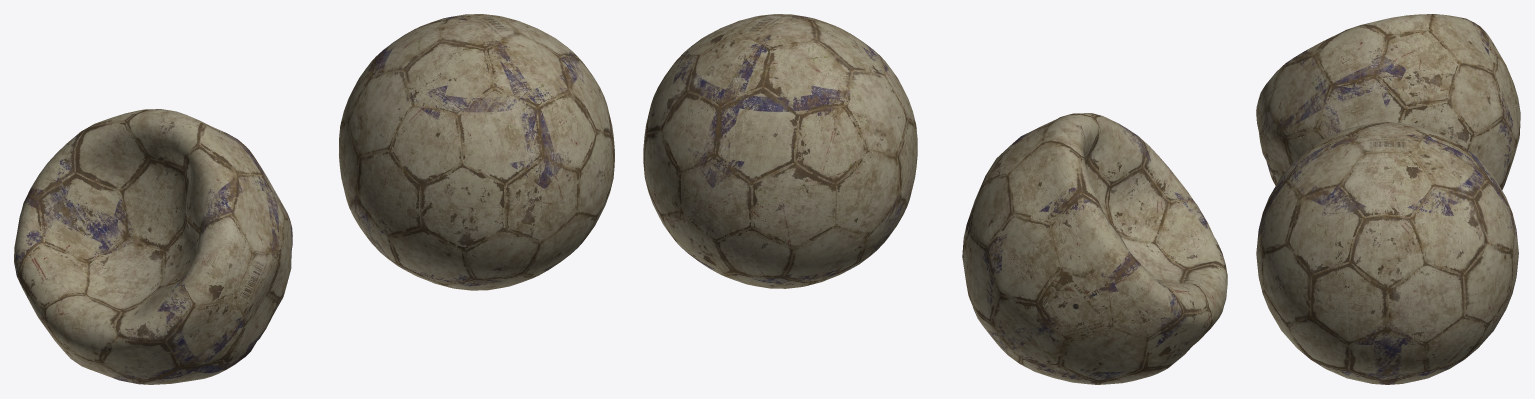
File: ball.glb
3 views of the same model, side by side, from view 1: azimuth 30°, elevation 25°; view 2: azimuth 150°, elevation 25°; view 3: azimuth 270°, elevation 25° (orthographic). The views are drawn at different scales.
Parts seen in each view (by area): view 1: football_inflated, football_deflated; view 2: football_inflated, football_deflated; view 3: football_inflated, football_deflated.
Part boxes in pixels (x1,y1,x2,y2): football_inflated: (339, 14, 614, 290); football_deflated: (14, 109, 292, 384); football_inflated: (643, 14, 917, 288); football_deflated: (962, 113, 1227, 384); football_inflated: (1256, 122, 1518, 384); football_deflated: (1256, 14, 1520, 189).
Size of the model in its own units: 0.5089 by 0.2219 by 0.2222.
Materials: 1 (1 with a texture image).
